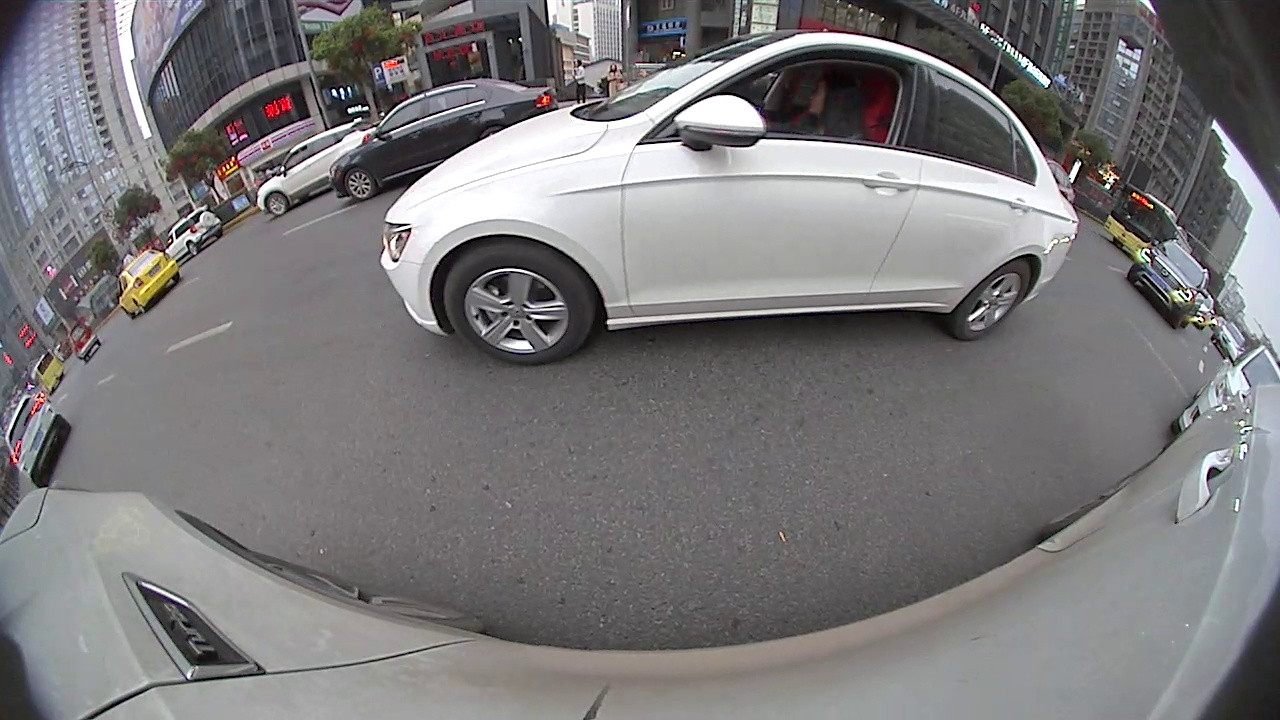bus: (1100, 182, 1188, 257)
car: (378, 31, 1083, 366), (328, 75, 563, 202), (253, 117, 384, 218), (1166, 341, 1279, 442), (1125, 237, 1211, 330), (1, 392, 72, 491), (114, 248, 183, 320), (162, 203, 227, 256)
front: (438, 247, 597, 368), (344, 167, 375, 203), (263, 191, 290, 218)
rear: (948, 253, 1032, 345), (186, 240, 201, 256)
